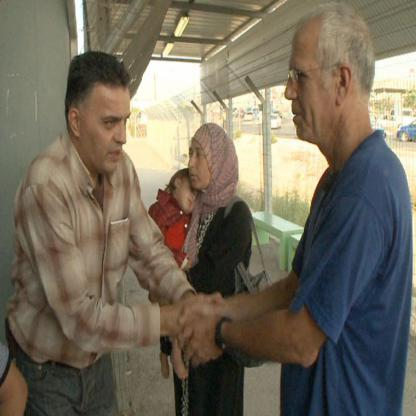face: (286, 24, 337, 142), (86, 84, 132, 171), (190, 137, 211, 190), (180, 173, 203, 210)
